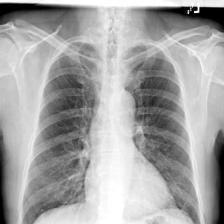normal: (19, 33, 206, 224)
